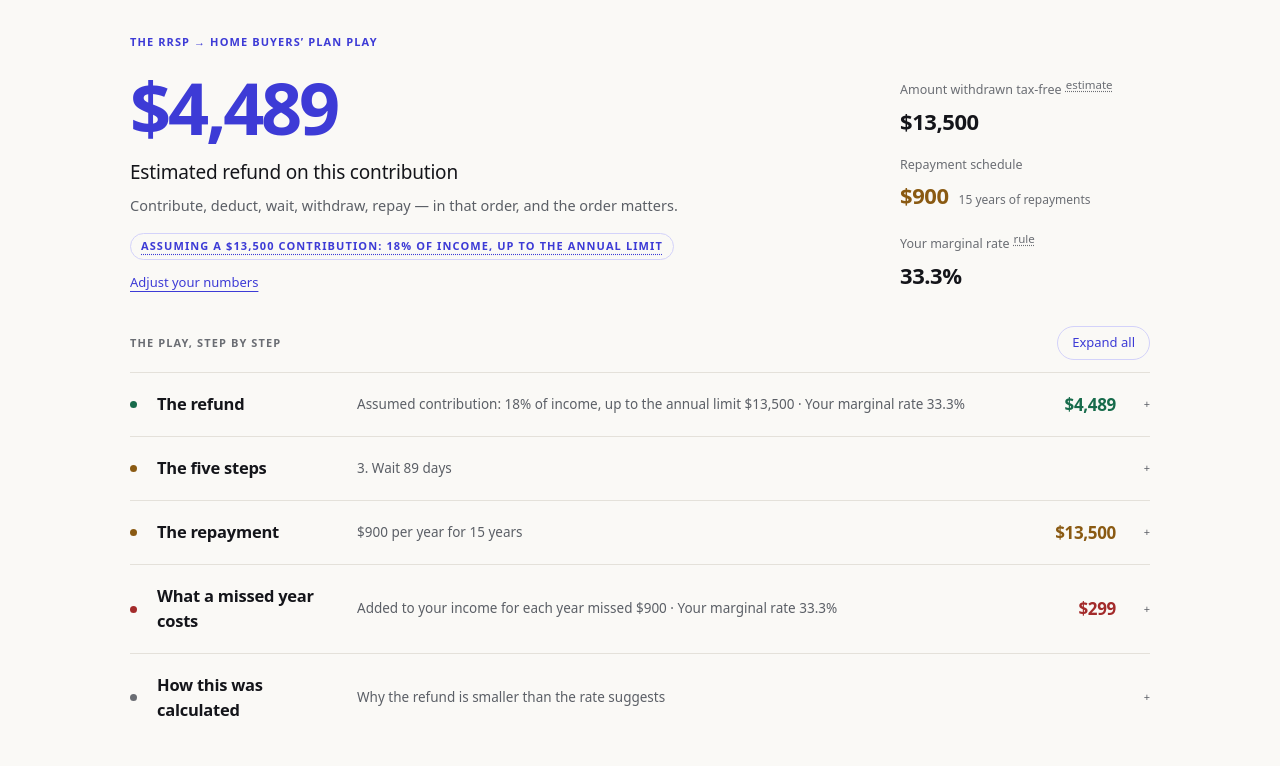
Test case: RRSP → HBP — the rules › states the rule with CRA's own "part or all" wording, not as a no-exception absolute
The image size is (1280, 766).
What coordinates should you click on to do the following:
click the button "The five steps 3. Wait 89 days +"
I would click on:
 (212, 468)
Its box is [130,437,1150,500].
(page scrolled)
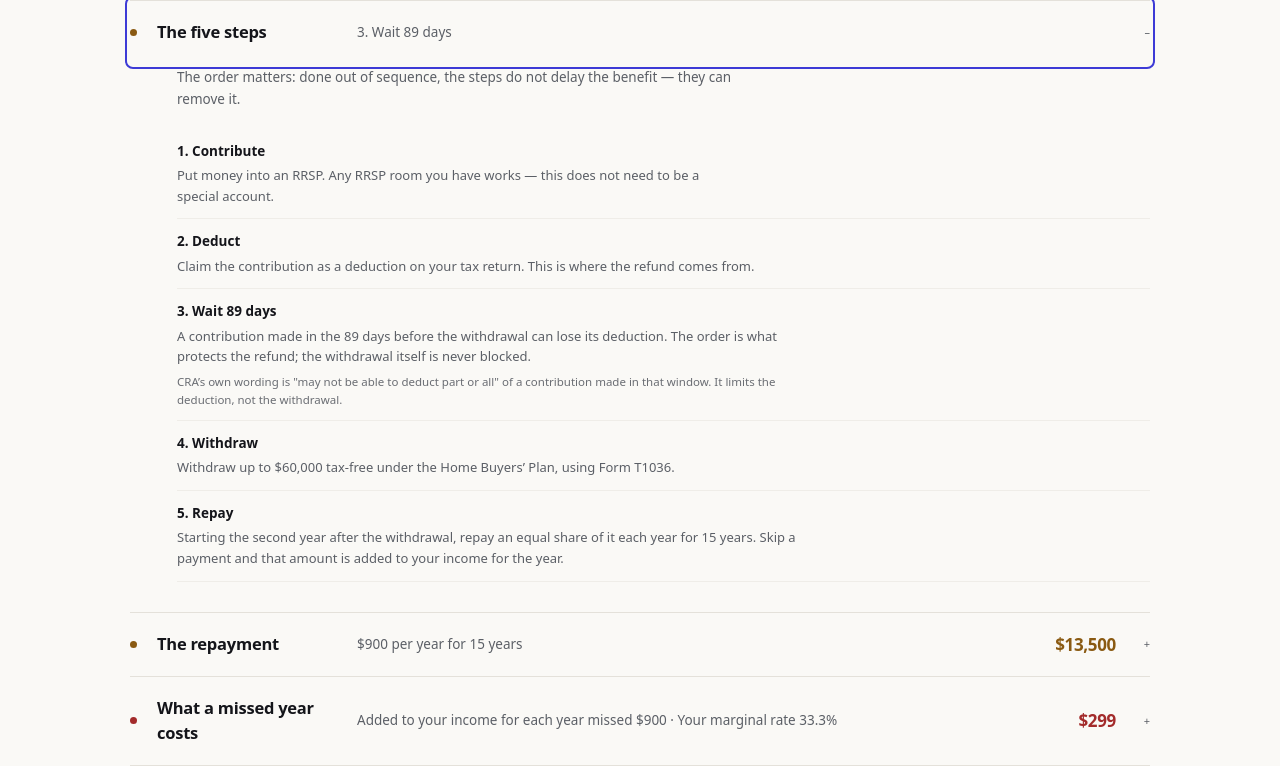
Check: the text "never blocked" is shown, box [177,327,777,366]
Check: the text "may not be able to deduct part or all" is shown, box [177,374,776,407]
